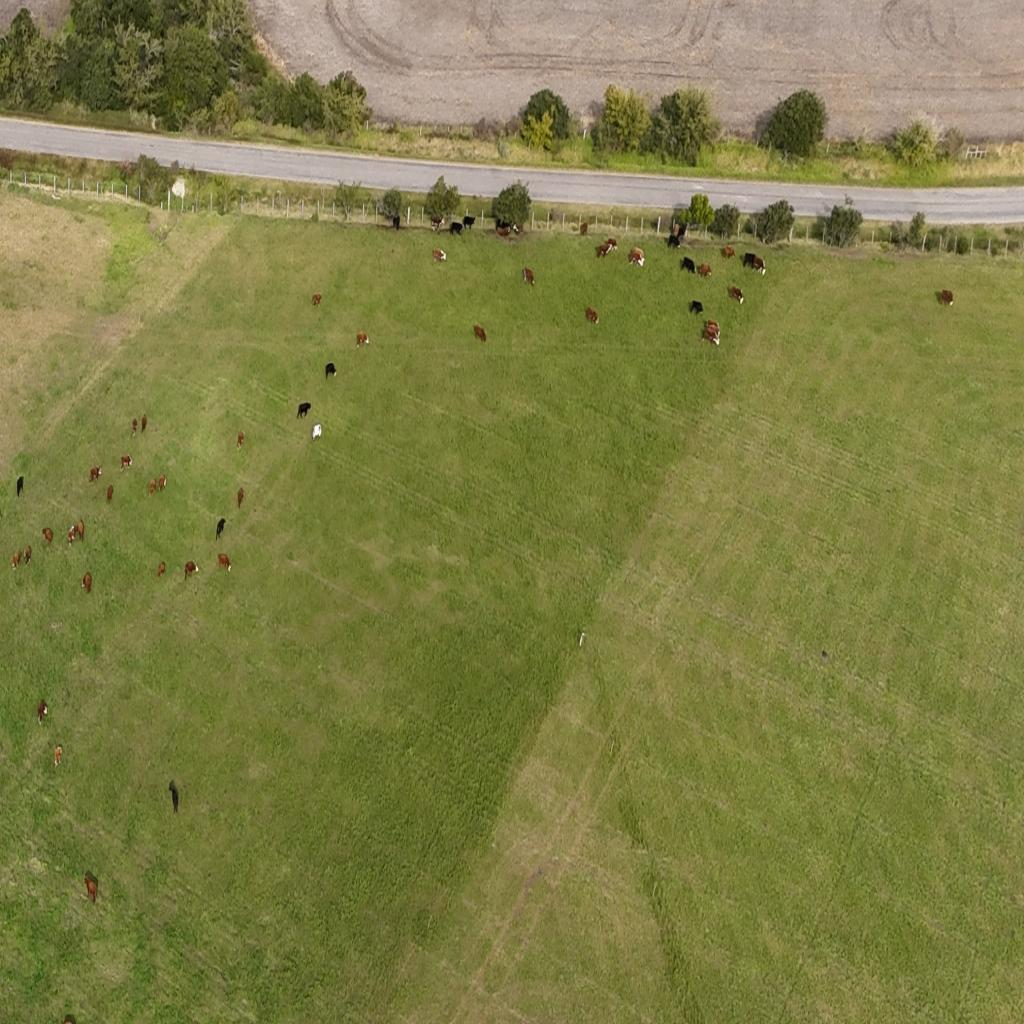cow: (82, 870, 98, 905), (168, 778, 180, 812), (701, 328, 720, 346), (753, 254, 767, 278), (680, 256, 696, 276), (628, 247, 644, 267), (741, 251, 756, 271), (184, 560, 199, 580), (728, 286, 744, 304), (37, 700, 48, 726), (217, 552, 231, 572), (522, 266, 535, 287), (937, 290, 953, 307), (42, 526, 54, 548), (585, 306, 598, 326), (698, 263, 712, 281), (676, 219, 688, 240), (81, 572, 92, 594), (720, 245, 736, 260), (474, 324, 486, 344), (297, 402, 311, 419), (689, 299, 703, 316), (89, 465, 102, 483), (449, 221, 463, 237), (667, 234, 681, 250), (596, 242, 610, 258), (704, 325, 721, 338), (120, 454, 133, 471), (356, 331, 369, 348), (462, 213, 475, 230), (216, 518, 226, 540), (54, 745, 63, 769), (432, 249, 446, 264), (12, 550, 23, 569), (430, 217, 443, 233), (325, 362, 336, 380), (604, 237, 618, 251), (76, 519, 84, 542), (17, 475, 25, 498), (157, 474, 167, 492), (668, 221, 678, 238), (496, 227, 510, 239), (68, 524, 76, 545), (703, 318, 721, 327), (106, 484, 114, 504), (24, 545, 32, 565), (312, 424, 322, 440), (156, 562, 165, 579), (237, 431, 245, 450), (579, 220, 588, 236), (312, 293, 322, 307), (149, 478, 156, 498), (62, 1014, 76, 1024), (392, 214, 400, 230), (238, 487, 244, 508), (141, 414, 147, 434), (511, 222, 521, 234), (132, 418, 137, 438), (522, 268, 527, 283)
